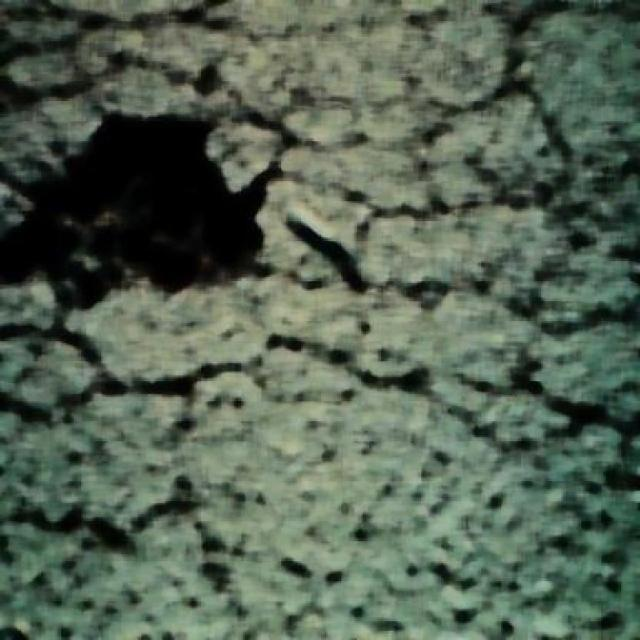Pothole: (0, 112, 282, 311)
